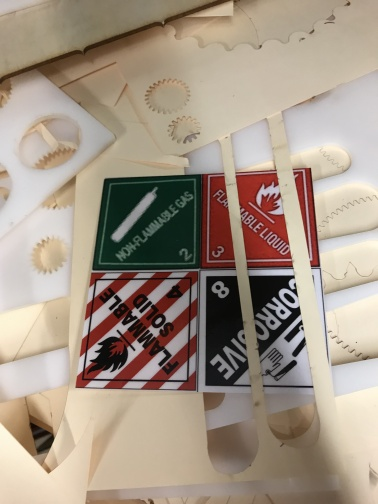Corrosive: (199, 267, 336, 392)
FlammableLiquid: (203, 169, 323, 267)
FlammableSolid: (75, 270, 200, 392)
NonFlammableGas: (93, 176, 201, 269)
